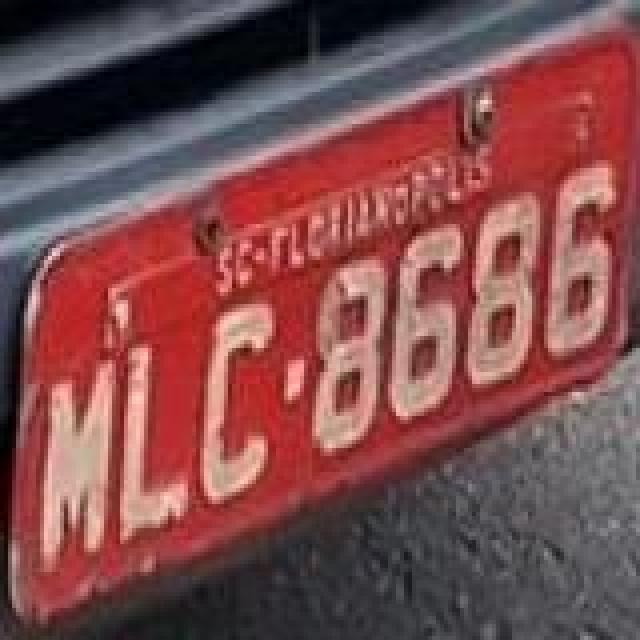6: (384, 226, 464, 430), (546, 162, 622, 366)
8: (306, 250, 390, 454), (462, 190, 546, 394)
C: (202, 298, 278, 510)
L: (116, 342, 188, 546)
M: (36, 354, 116, 574)
